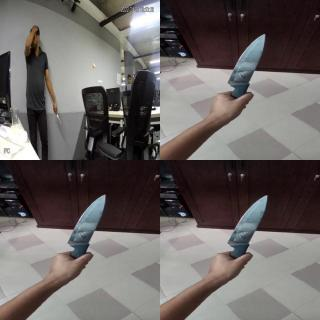knife: (224, 196, 276, 254), (222, 32, 272, 92), (71, 194, 109, 252), (55, 109, 63, 127)
